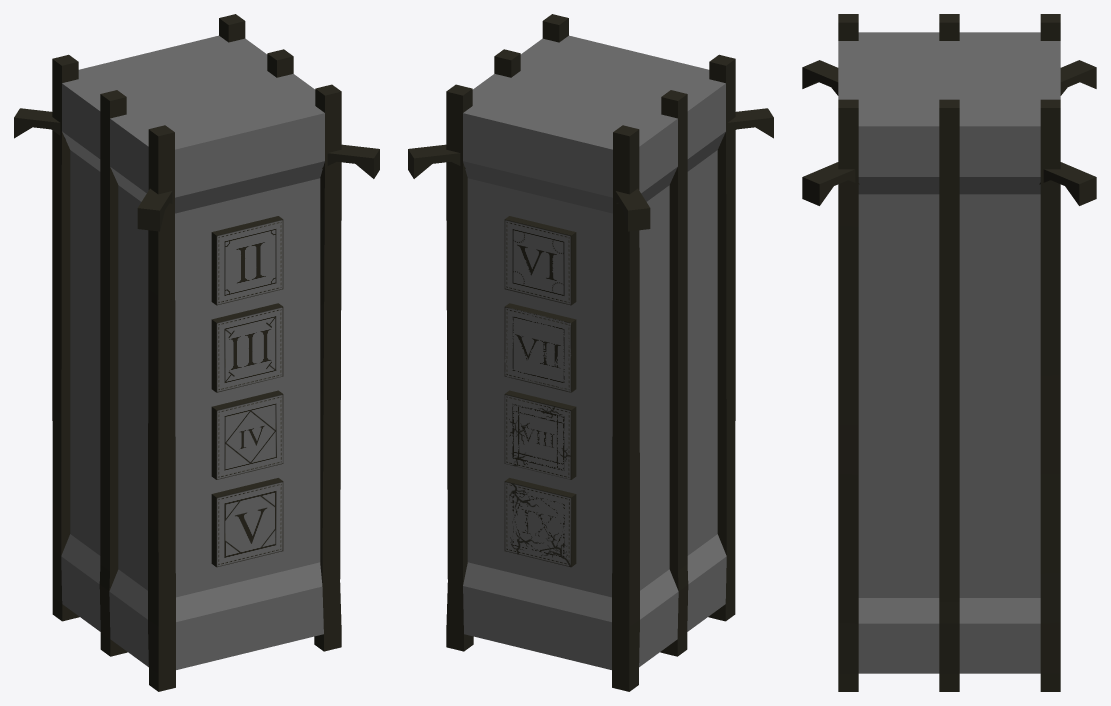
Rendered from Ruins_3.fbx.
3 renders of one model, left to right at view 1: azimuth 30°, elevation 25°; view 2: azimuth 150°, elevation 25°; view 3: azimuth 270°, elevation 25°, orthographic. The views are drawn at different scales.
Parts seen in each view (by area): view 1: Ruins_3; view 2: Ruins_3; view 3: Ruins_3.
Boxes of the visible parts, x1,y1,x2,y2 form: Ruins_3: (14,14,379,691); Ruins_3: (408,14,773,691); Ruins_3: (802,14,1096,691).
Bounding box in the file's own units: 1453 × 3183 × 1453.
1 material, 1 textured.
